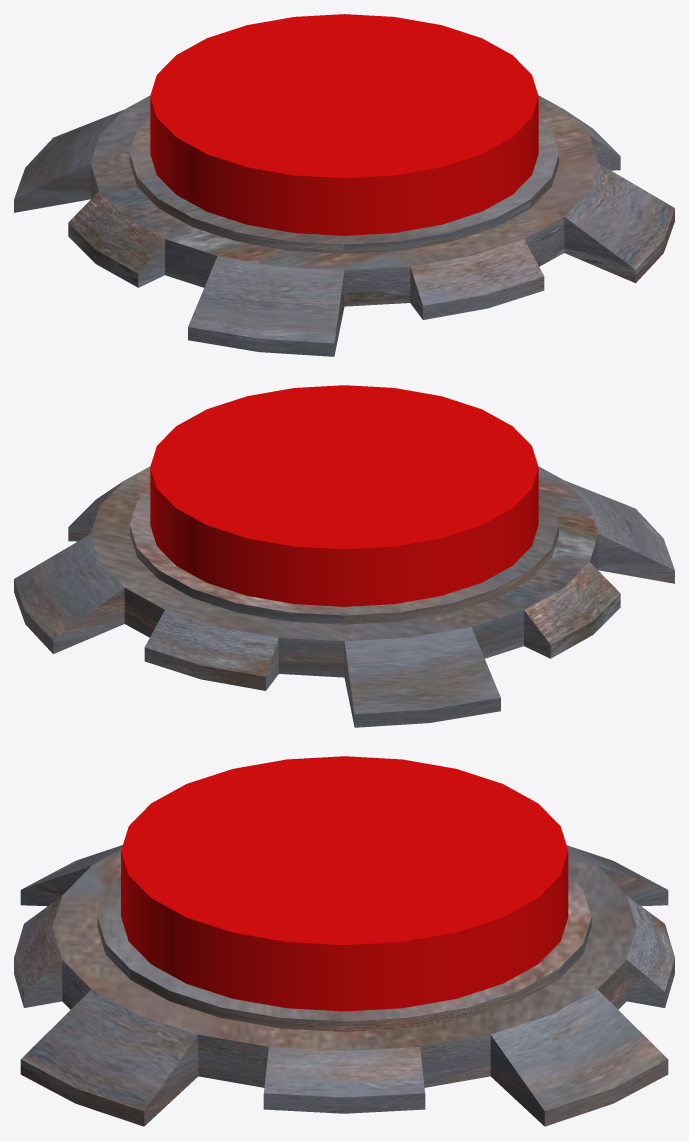
File: Rusty button.fbx
3 renders of one model, top to bottom at view 1: azimuth 30°, elevation 25°; view 2: azimuth 150°, elevation 25°; view 3: azimuth 270°, elevation 25°, orthographic. The views are drawn at different scales.
Parts seen in each view (by area): view 1: pCylinder2, pCylinder1; view 2: pCylinder2, pCylinder1; view 3: pCylinder2, pCylinder1.
Part boxes in pixels (x1,y1,x2,y2): pCylinder2: (150,14,538,235); pCylinder1: (14,95,674,356); pCylinder2: (150,385,538,606); pCylinder1: (14,466,674,727); pCylinder2: (121,756,568,1011); pCylinder1: (14,845,674,1126).
Size of the model in its own units: 2.19 by 0.509 by 2.19.
